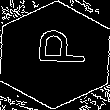P_W: (26, 35, 84, 75)
